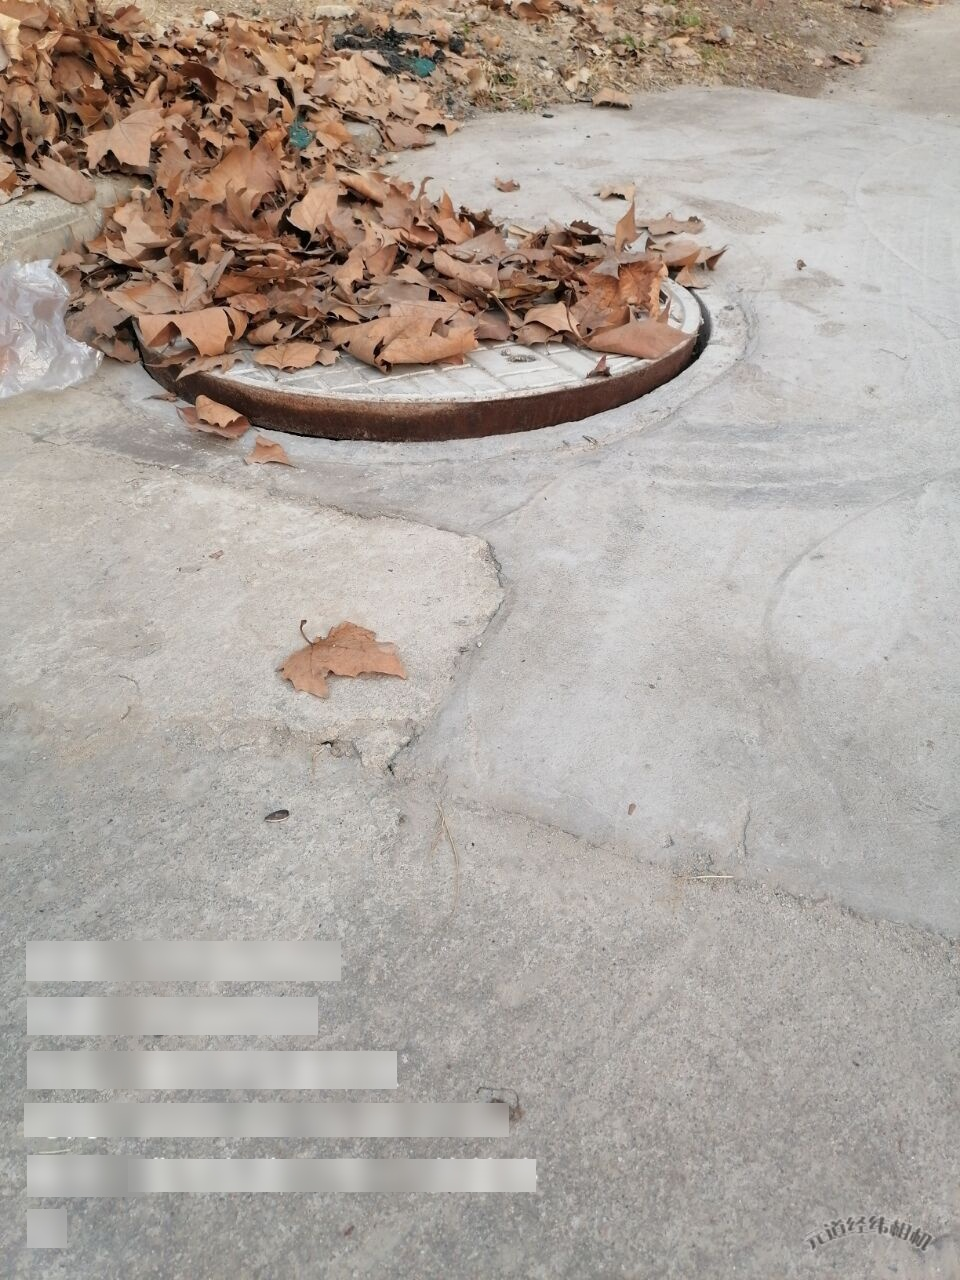uncovered: (130, 236, 750, 458)
